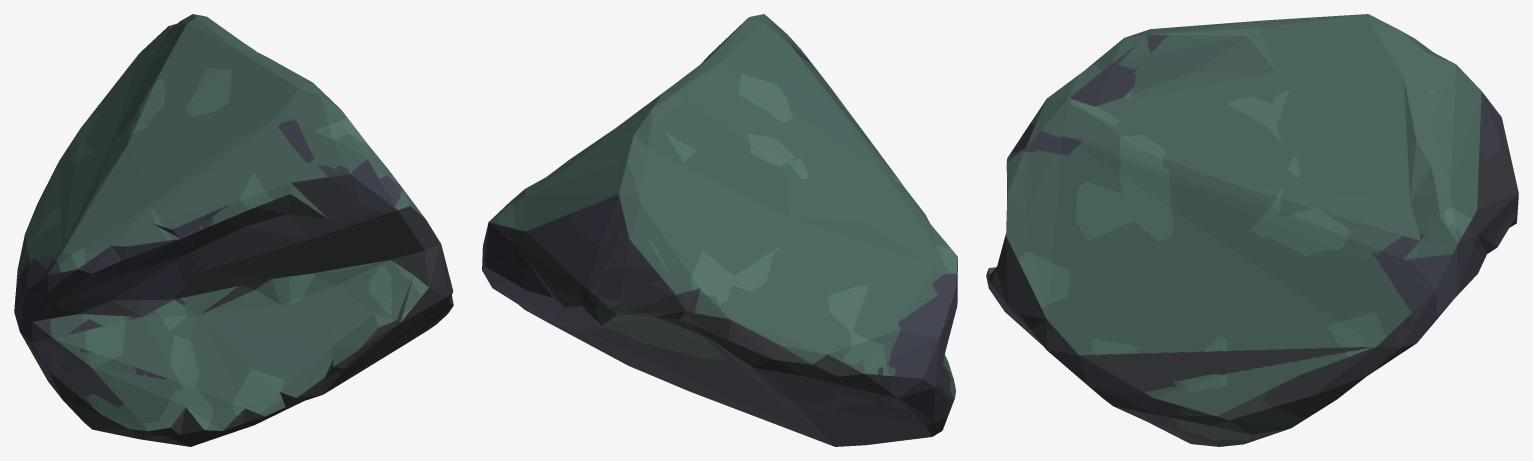
Rendered from ROCK_A.fbx.
The picture shows the model from 3 angles, left to right: view 1: azimuth 30°, elevation 25°; view 2: azimuth 150°, elevation 25°; view 3: azimuth 270°, elevation 25°; orthographic projection. The views are drawn at different scales.
Parts seen in each view (by area): view 1: ROCK_A; view 2: ROCK_A; view 3: ROCK_A.
Part boxes in pixels (x1,y1,x2,y2): ROCK_A: (14, 14, 453, 446); ROCK_A: (482, 14, 957, 446); ROCK_A: (986, 14, 1518, 446).
Bounding box in the file's own units: 192 × 177 × 200.
